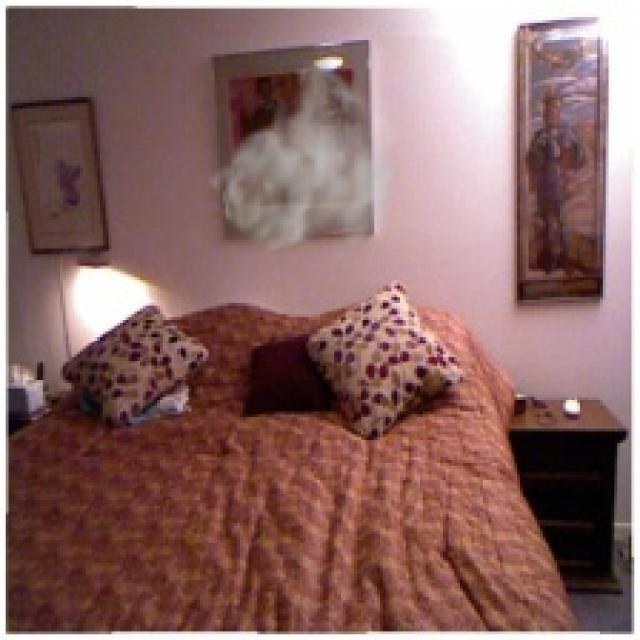smoke: (206, 43, 406, 277)
